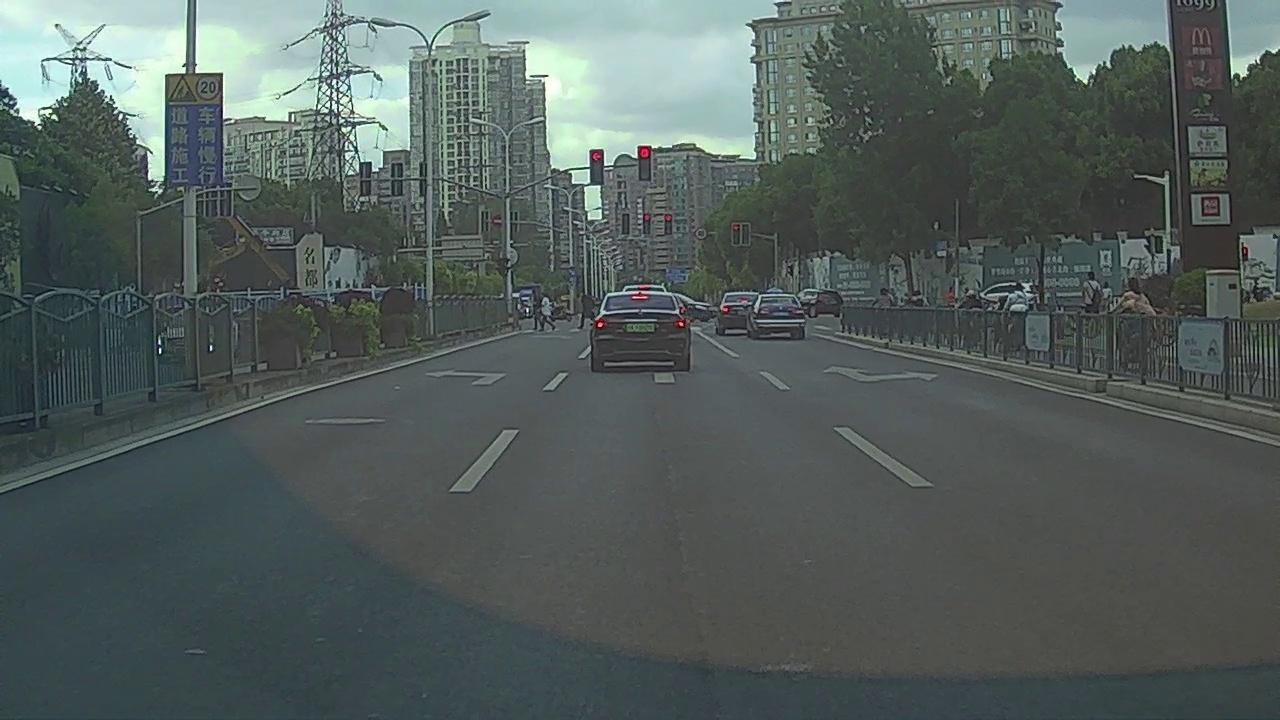traffic_light: (590, 150, 604, 185), (639, 146, 651, 181), (620, 212, 629, 235), (741, 222, 750, 245), (731, 223, 740, 245), (642, 213, 650, 234), (664, 213, 672, 234)
